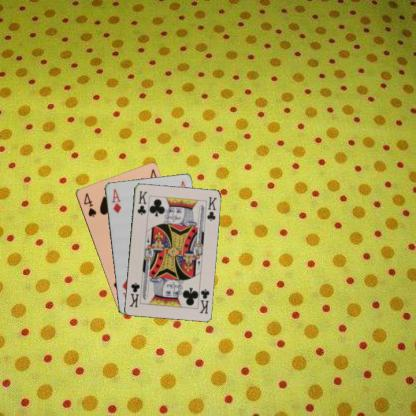4s: (81, 190, 98, 218)
Ad: (108, 187, 122, 214)
Kc: (134, 188, 148, 216), (196, 287, 210, 314)
